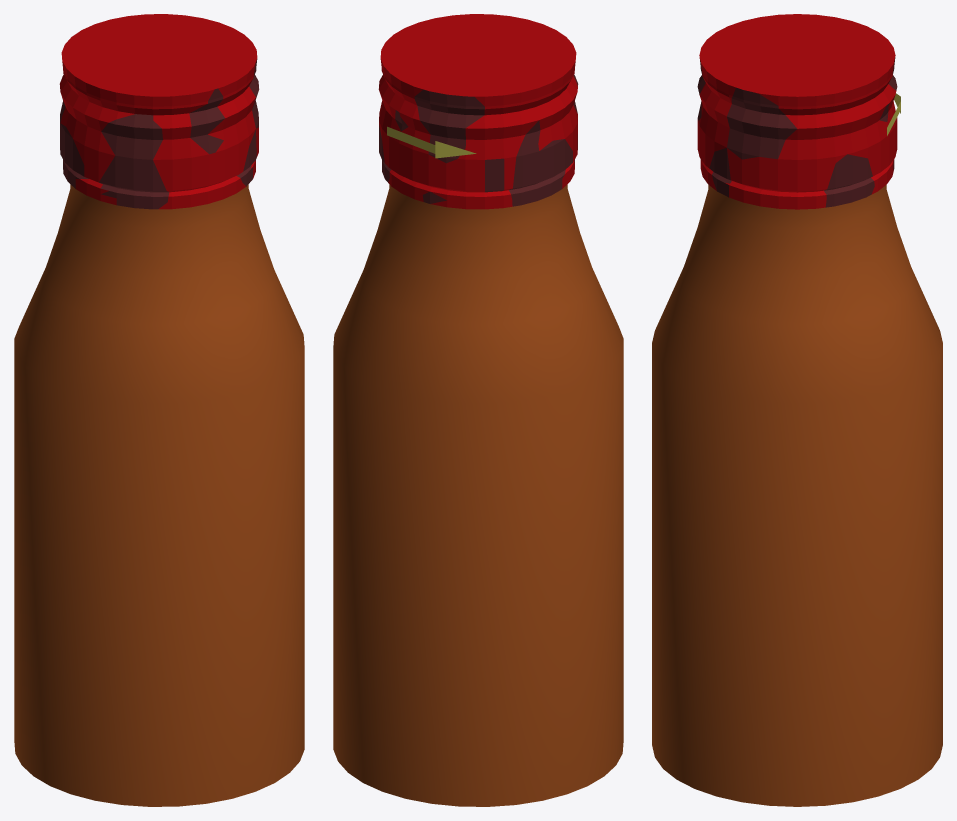
Rendered from Bottle.fbx.
3 renders of one model, left to right at view 1: azimuth 30°, elevation 25°; view 2: azimuth 150°, elevation 25°; view 3: azimuth 270°, elevation 25°, orthographic.
Visible parts, largest first — view 1: Bottle, Lid; view 2: Bottle, Lid, Direction; view 3: Bottle, Lid.
Part boxes in pixels (x1,y1,x2,y2): Bottle: (14,184,304,806); Lid: (59,14,259,209); Bottle: (333,184,623,806); Lid: (378,14,578,209); Direction: (387,126,476,158); Bottle: (652,185,942,806); Lid: (697,14,897,209).
Bounding box in the file's own units: 200 × 524 × 200.
